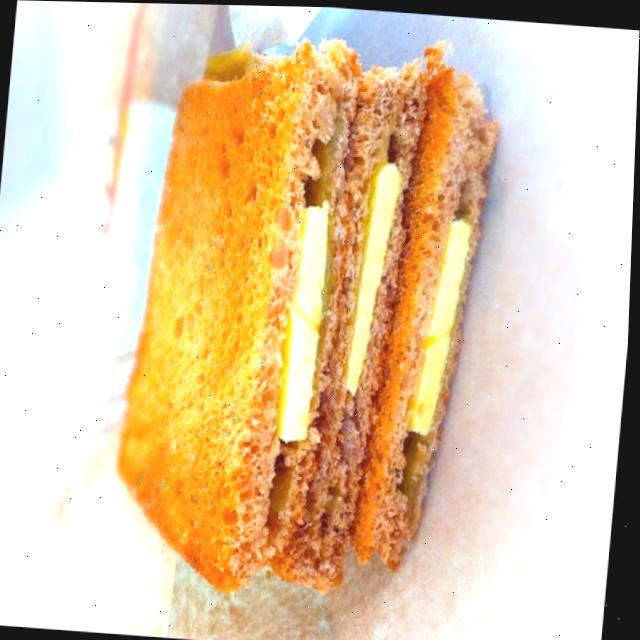面包点心: (81, 2, 549, 640)
